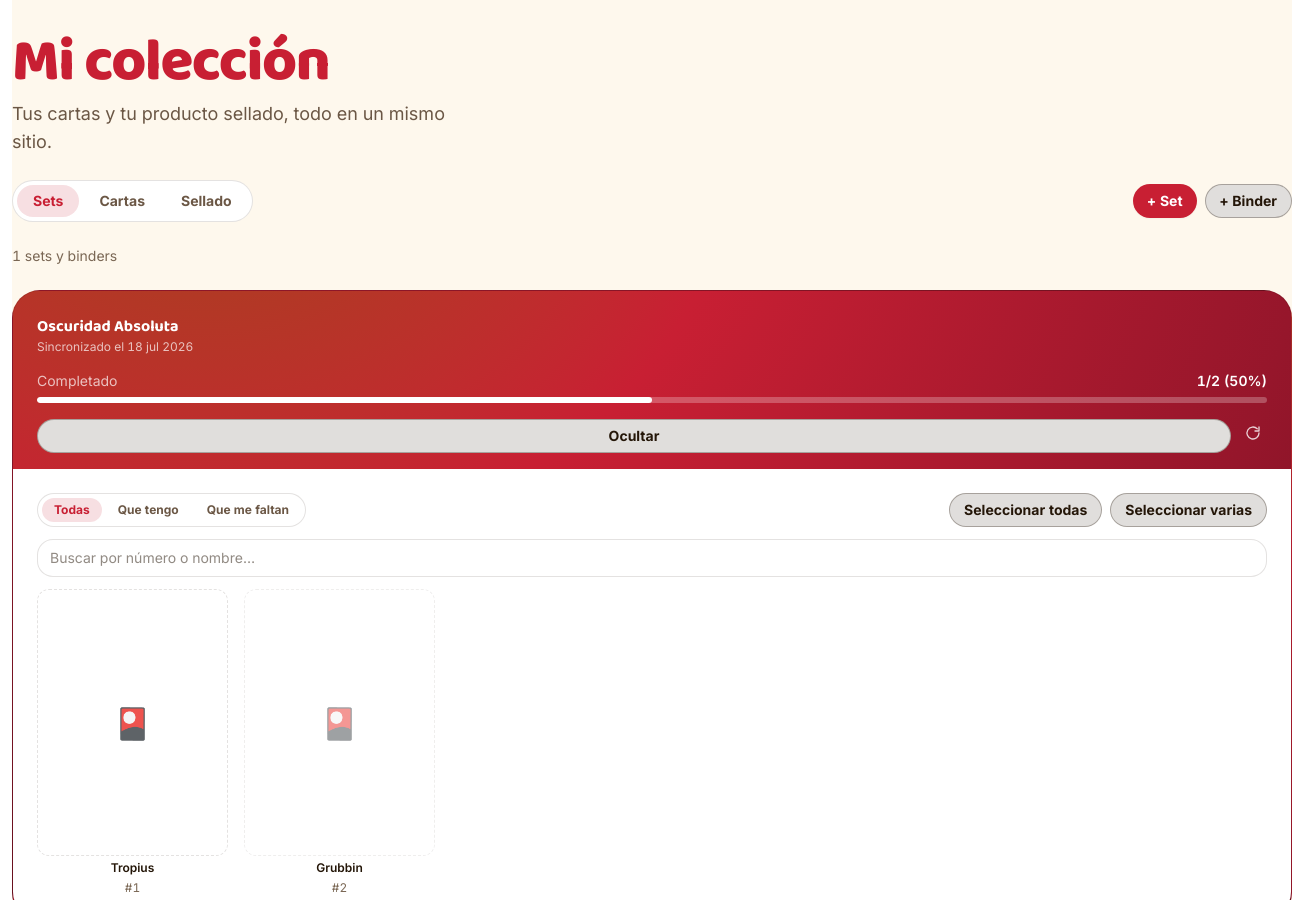
Test case: ColeccionScreen › en Sets, seleccionar una mezcla de tenidas y que faltan muestra los dos botones de acción
Click the button "Sets".
click(48, 201)  # box x1=17 y1=185 x2=79 y2=217
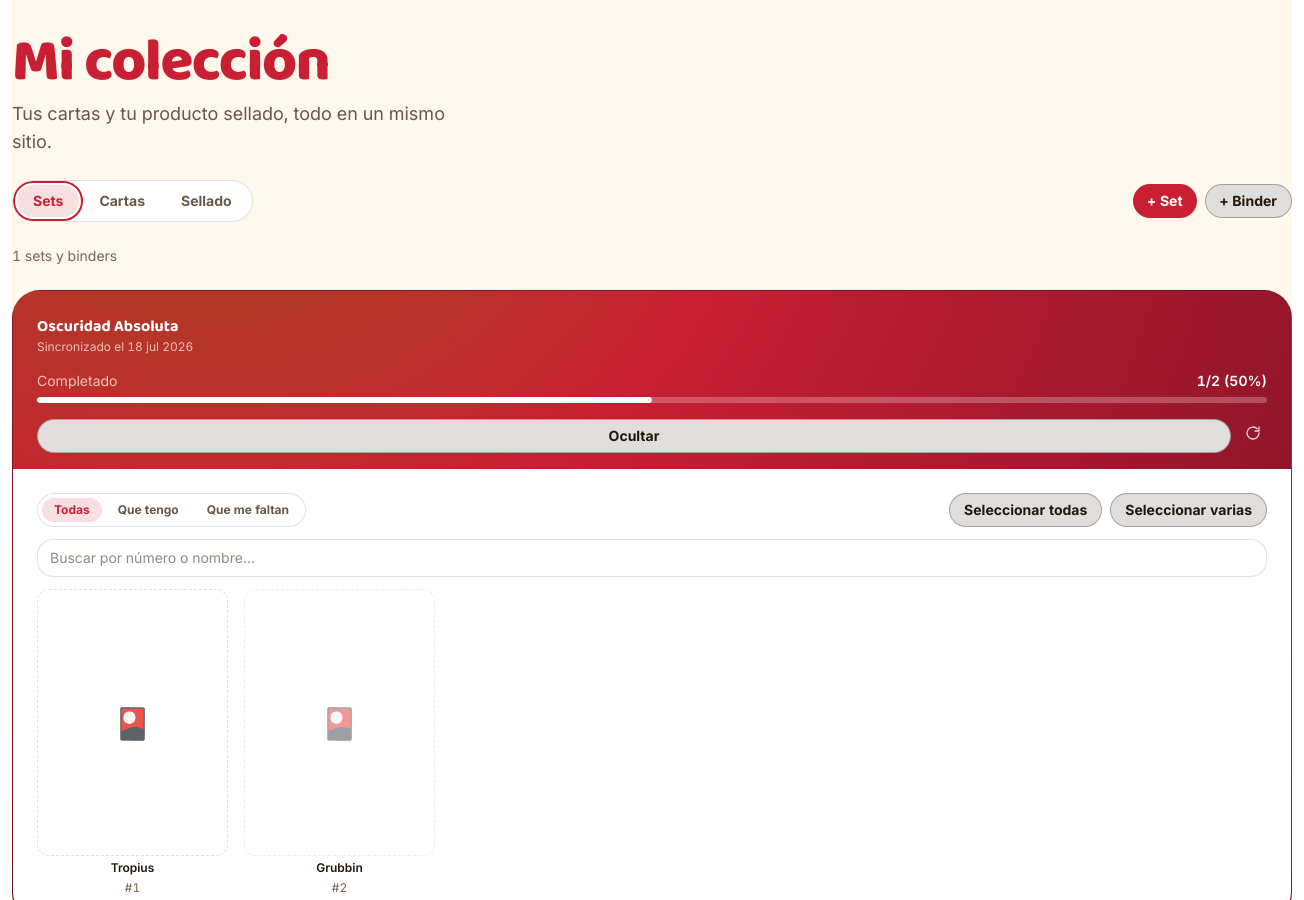
Click the button "Seleccionar varias".
click(1189, 510)  # box x1=1110 y1=493 x2=1267 y2=527
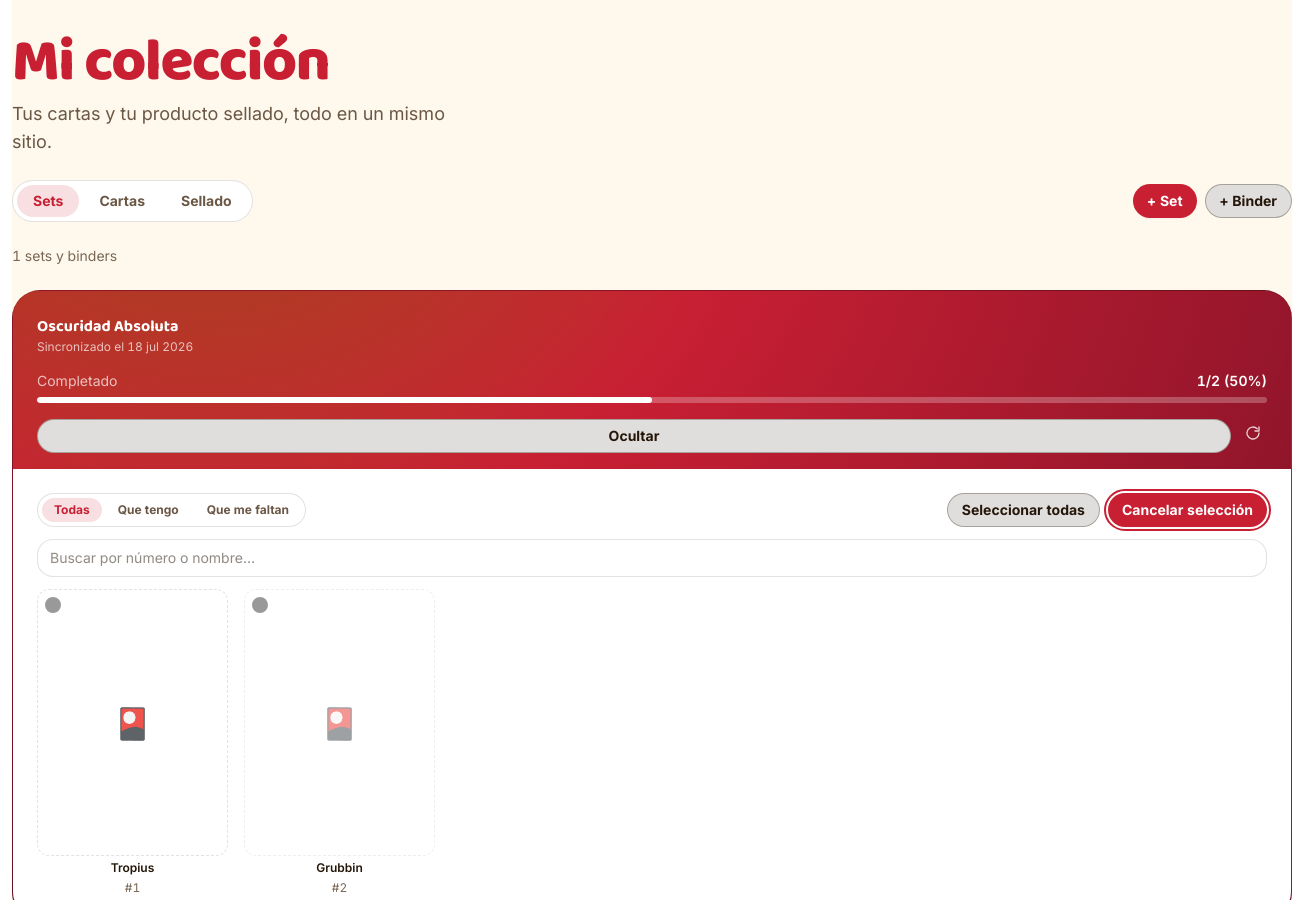
Click the button named "Desmarcar Tropius".
click(132, 723)  # box x1=37 y1=589 x2=228 y2=856
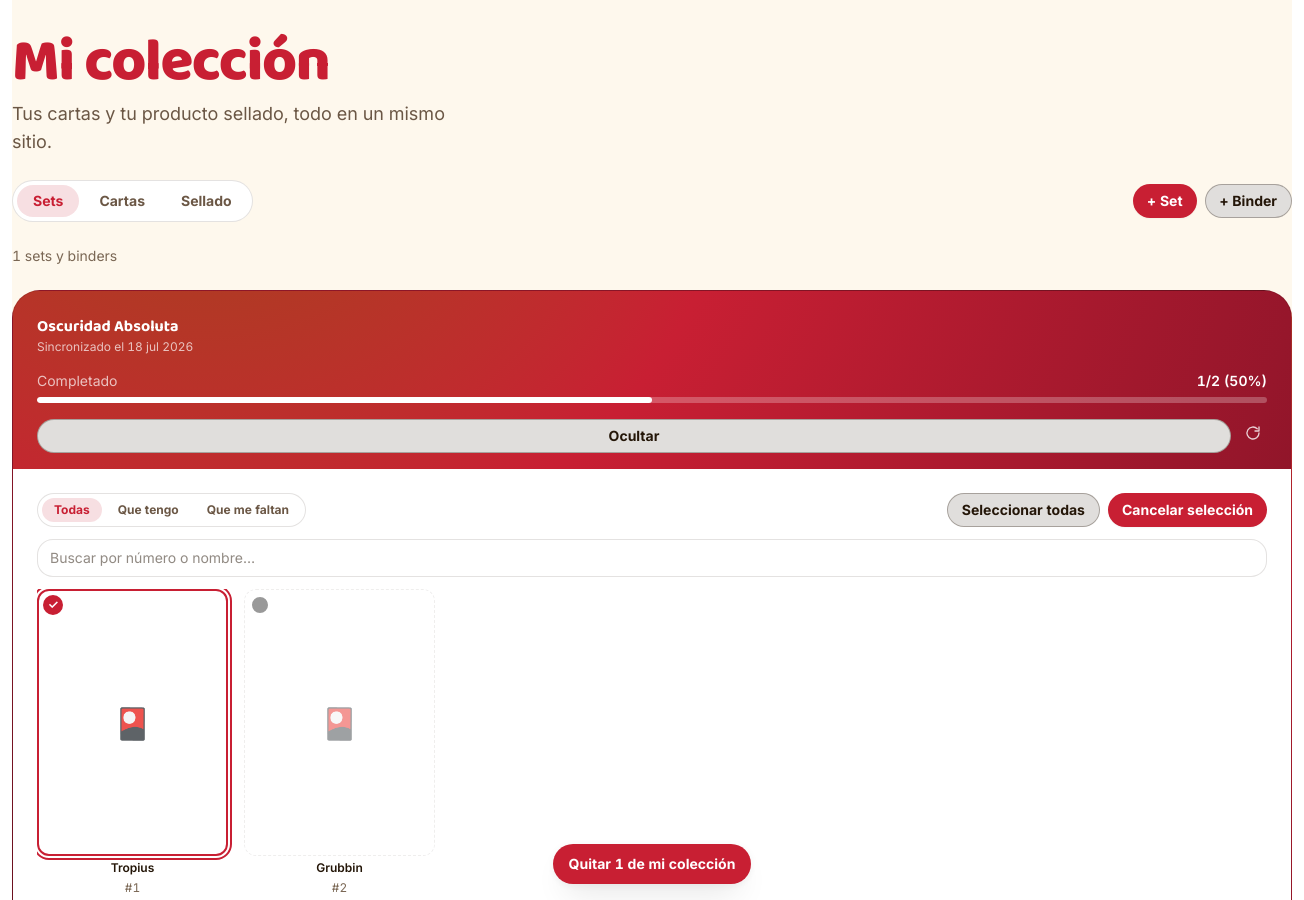
Click the button named "Marcar Grubbin como mía".
click(340, 723)  # box x1=244 y1=589 x2=435 y2=856
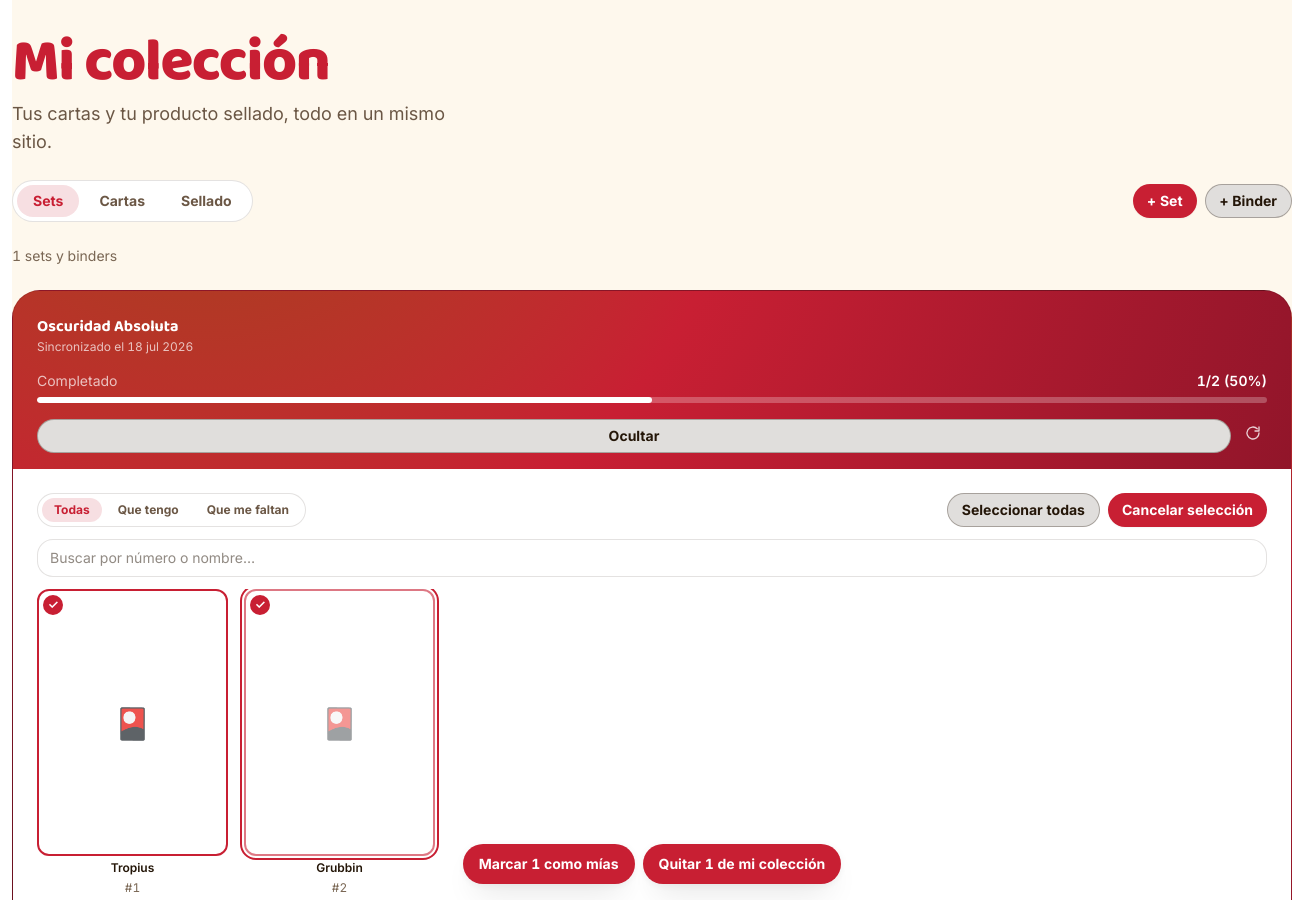
Now the button "Quitar 1 de mi colección" is shown, box x1=642 y1=844 x2=841 y2=884
Now the button "Marcar 1 como mías" is shown, box x1=463 y1=844 x2=634 y2=884
